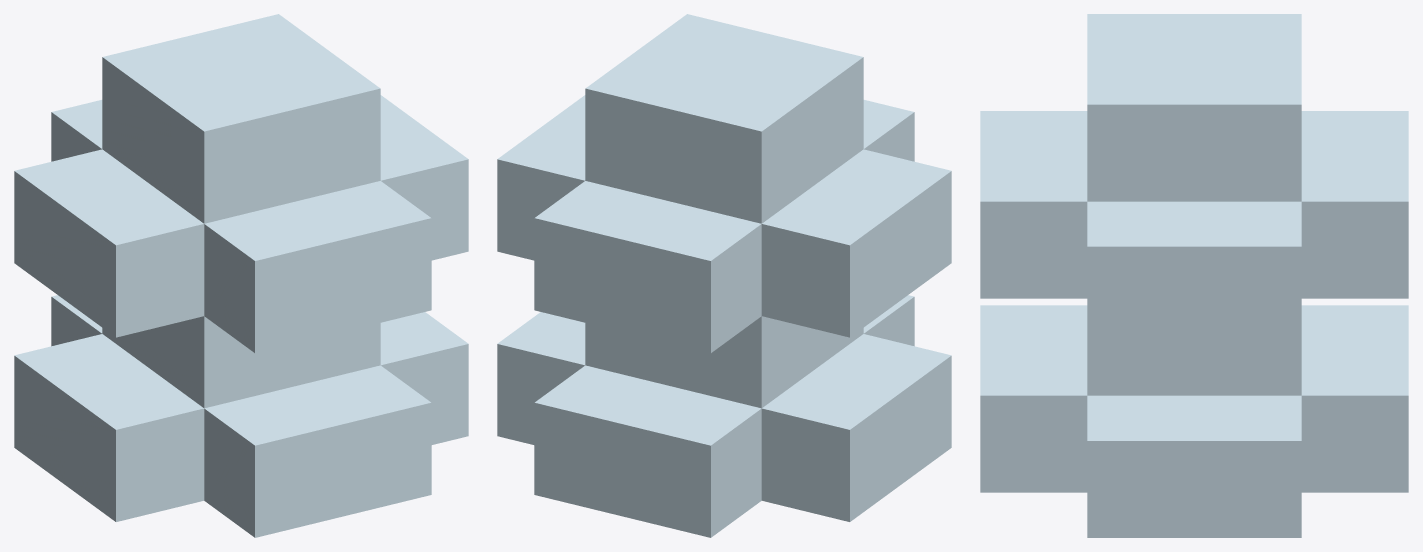
File: parts3.dae
3 views of the same model, side by side, from view 1: azimuth 30°, elevation 25°; view 2: azimuth 150°, elevation 25°; view 3: azimuth 270°, elevation 25° (orthographic). The views are drawn at different scales.
Visible parts, largest first — view 1: Matrix_22; view 2: Matrix_22; view 3: Matrix_22.
Part boxes in pixels (x1,y1,x2,y2): Matrix_22: (14,14,468,537); Matrix_22: (497,14,951,537); Matrix_22: (980,14,1408,537).
Size of the model in its own units: 4 by 4 by 4.
1 material, 1 textured.
